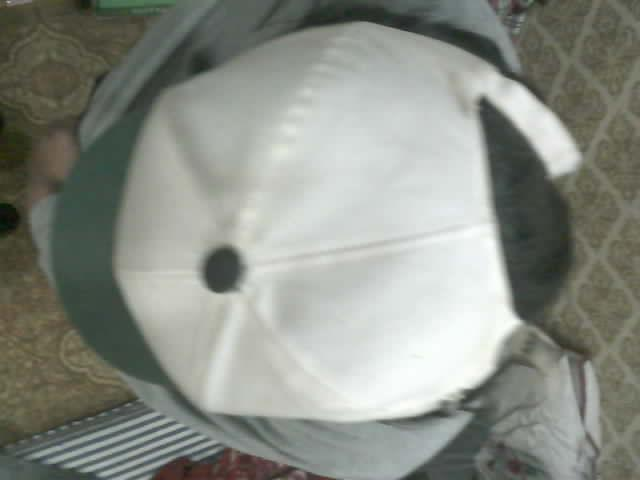cap: (51, 22, 581, 423)
